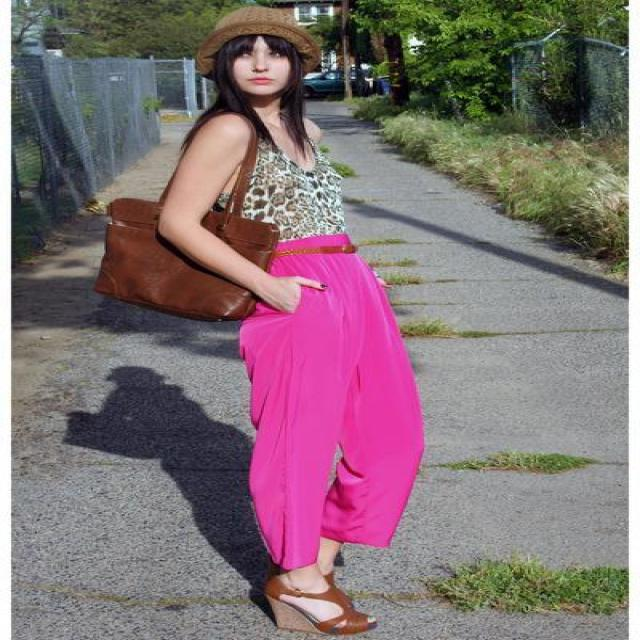bag: (98, 117, 280, 330)
hat: (190, 0, 325, 63)
pants: (238, 252, 422, 570)
shirt: (242, 151, 348, 239)
shoe: (266, 552, 376, 639)
